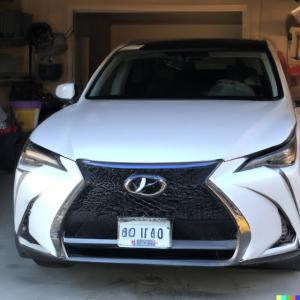Plate: (117, 218, 173, 249)
